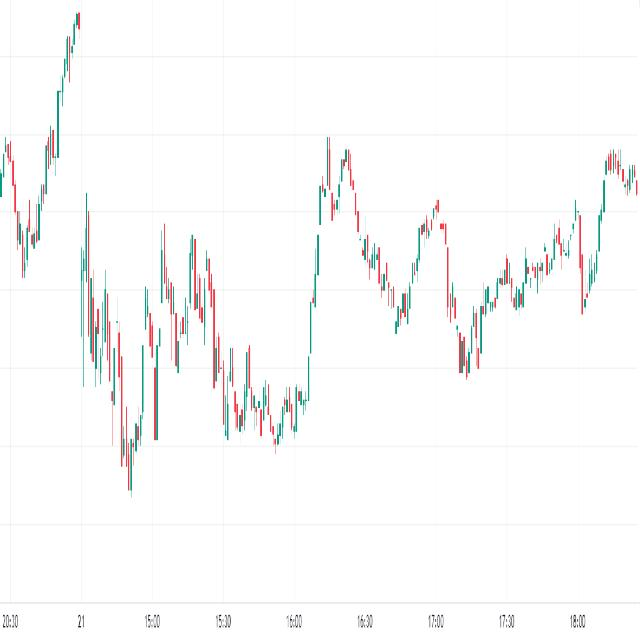Ascending-Triangle: (136, 234, 234, 507)
Descending-Triangle: (207, 295, 334, 451)
Double-Top: (310, 120, 368, 273)
